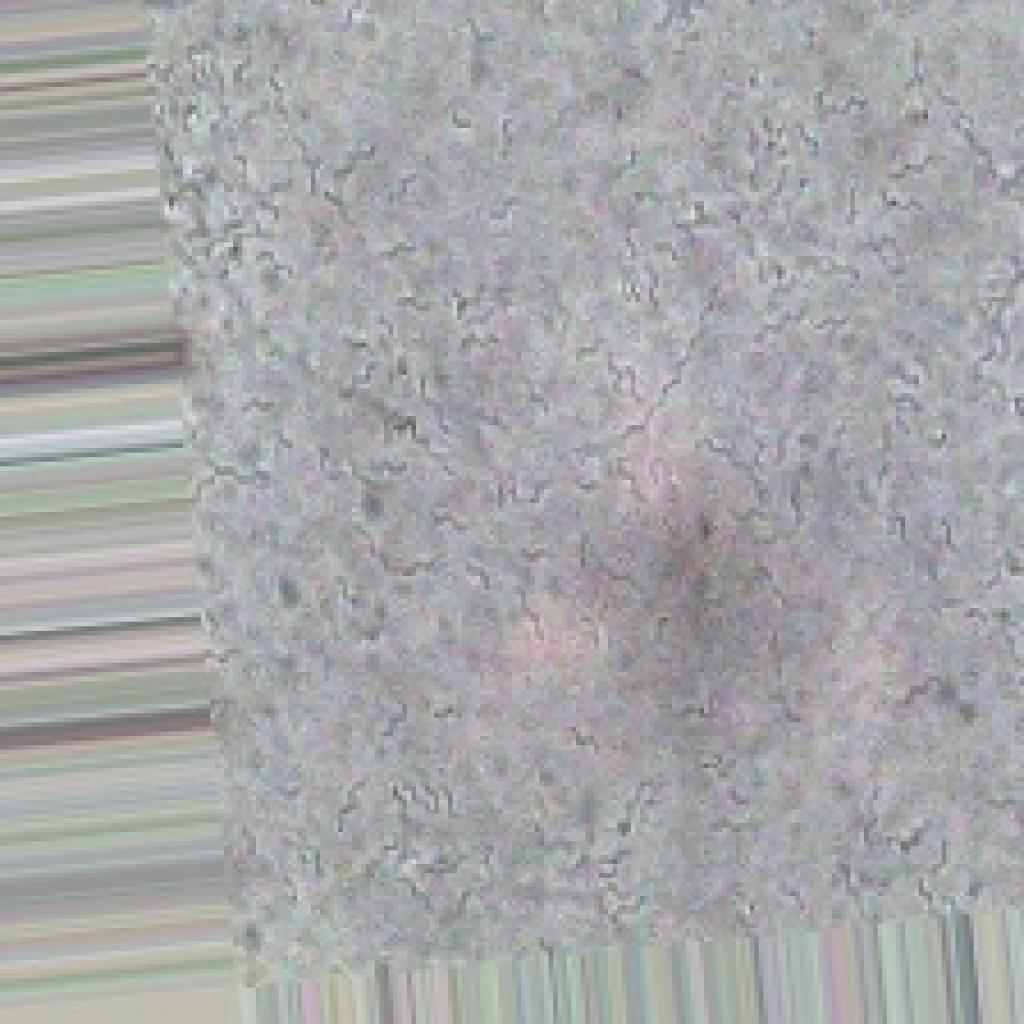Rodbacteria: (137, 0, 1019, 1019)
